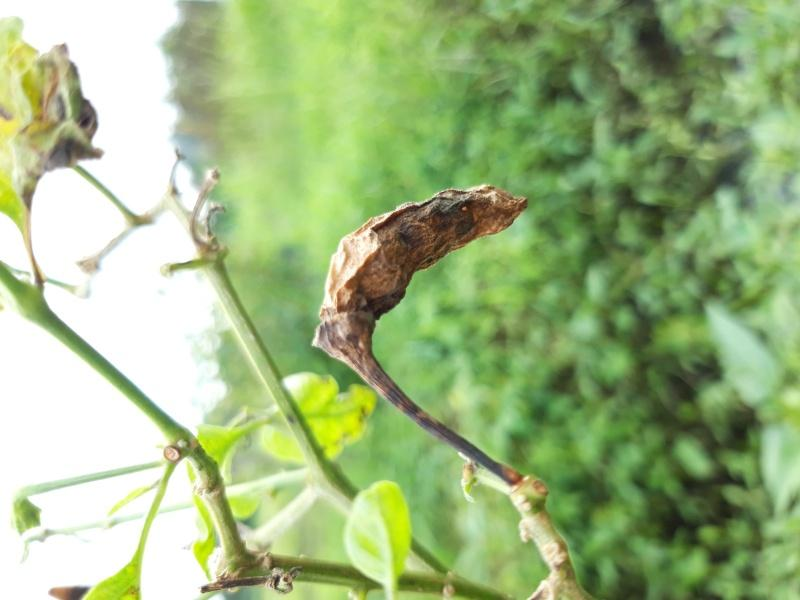antraknosa: (316, 186, 527, 327)
